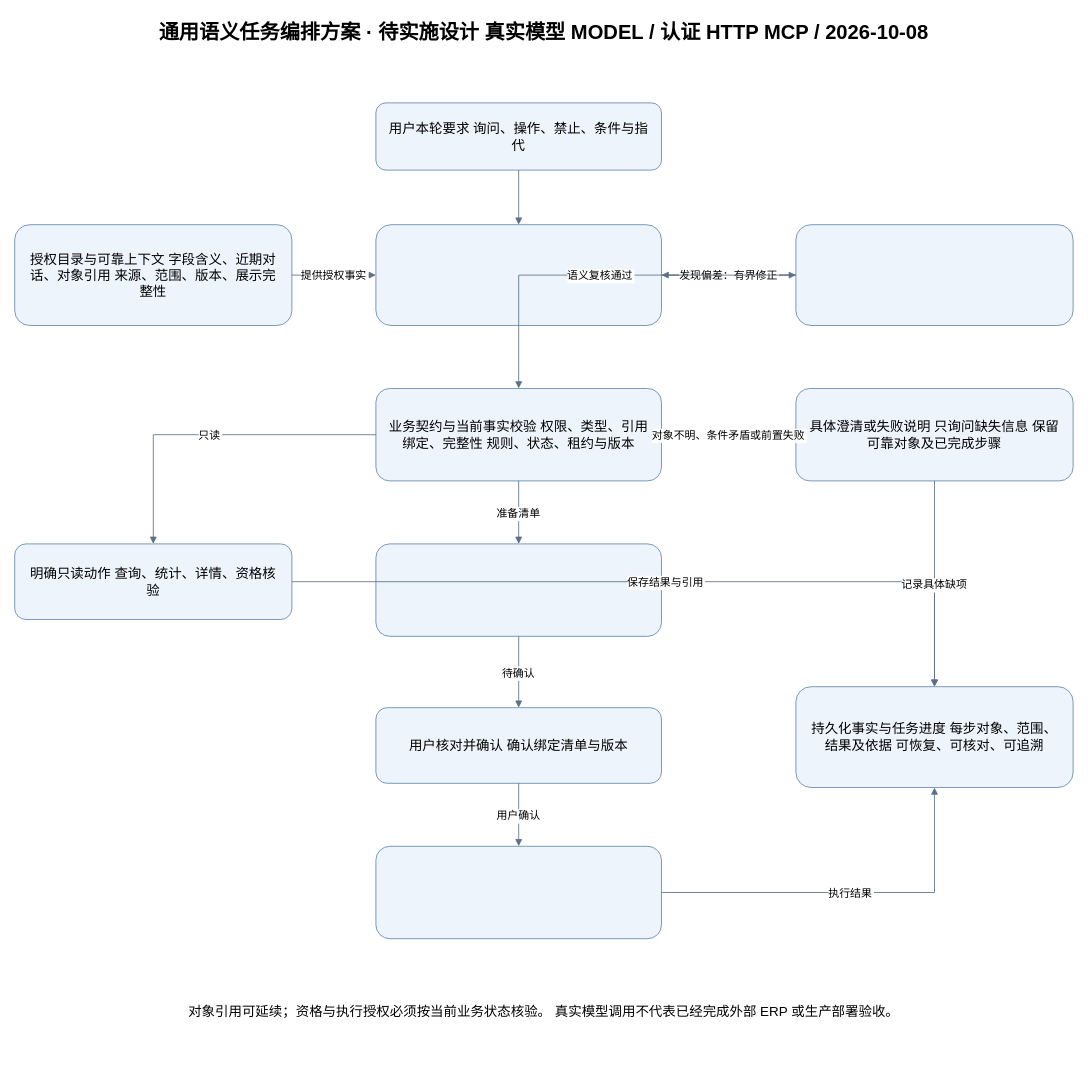
This 1088x1074 diagram has some shape labels left out. The box of each missing label's shape, as (x1, y1, x2, y2) in pixels:
受控执行 确认、权限、幂等、租约 来源及执行版本再次校验: (375, 845, 662, 939)
明确准备派单 引用目标 → 重新核验 生成准确的待确认清单: (375, 543, 662, 636)
统一模型规划 MODEL 动作 + 对象 + 条件 + 数量 本轮依据 + 步骤依赖: (375, 224, 662, 326)
语义复核 MODEL 是否遗漏、错指、误解否定 有界修正，不执行业务: (795, 224, 1073, 326)
